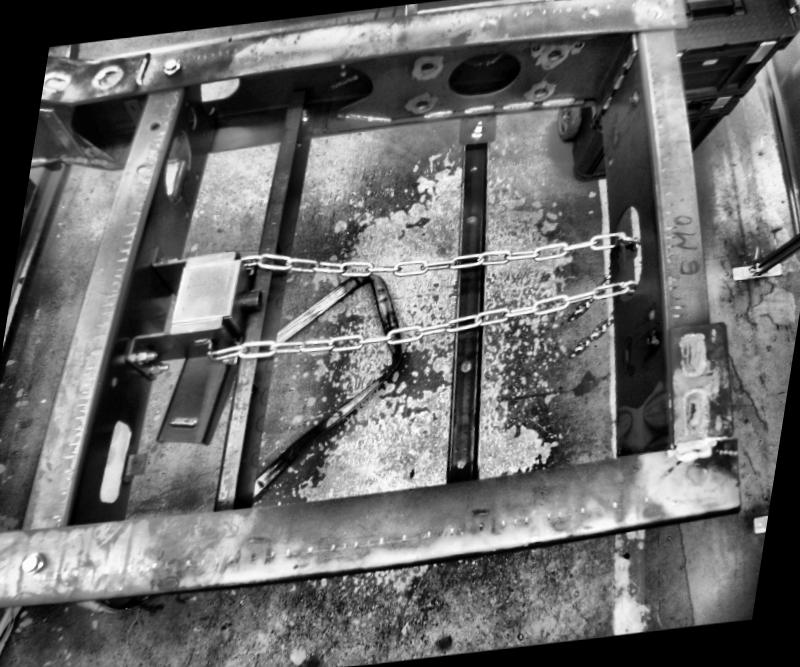bolt: (156, 51, 185, 79), (130, 348, 158, 365), (641, 330, 662, 352), (144, 360, 168, 376), (292, 106, 314, 123), (469, 116, 484, 139), (157, 252, 177, 266), (627, 92, 638, 107)
bracket: (603, 232, 631, 283), (118, 451, 148, 484)
hole: (439, 48, 526, 102), (92, 411, 130, 512), (158, 128, 193, 214), (187, 71, 246, 106), (414, 58, 436, 75), (412, 98, 430, 113), (543, 50, 561, 64), (456, 359, 472, 374), (532, 85, 548, 98), (462, 212, 476, 226), (454, 459, 468, 472), (132, 163, 146, 175), (643, 308, 657, 320), (107, 374, 119, 388), (146, 120, 158, 132), (467, 165, 476, 174), (128, 460, 138, 468)
welding: (621, 51, 636, 70), (595, 94, 612, 110), (607, 76, 624, 90)
